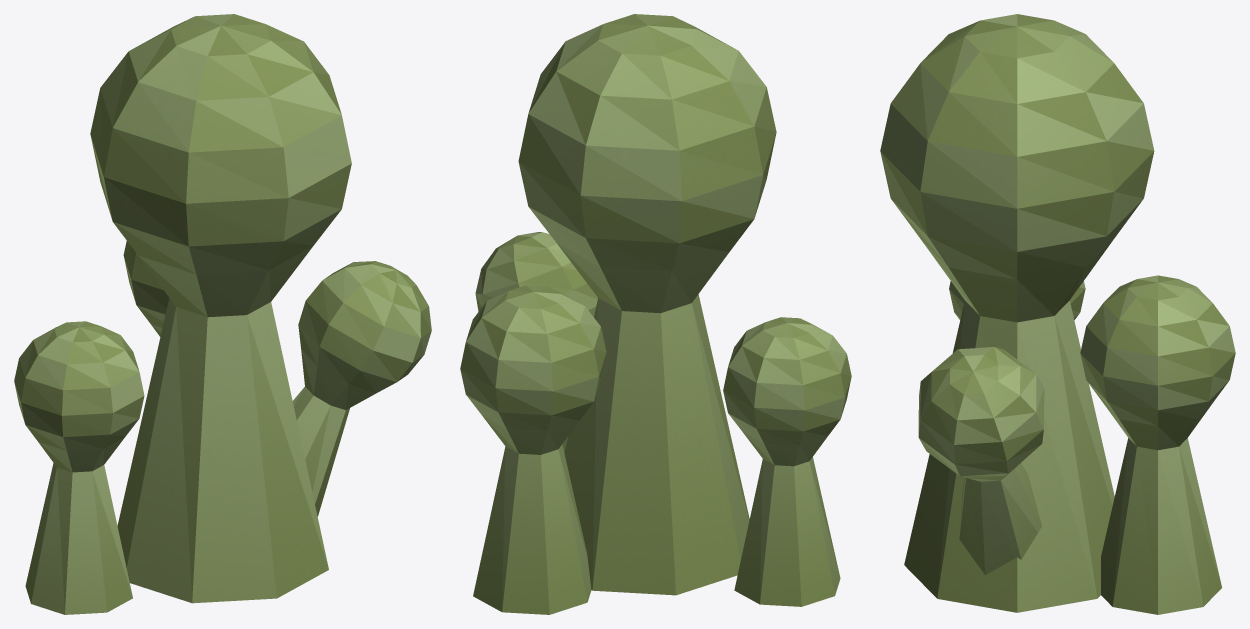
The model's file is Mushroom_Gr_3B.fbx.
3 renders of one model, left to right at view 1: azimuth 30°, elevation 25°; view 2: azimuth 150°, elevation 25°; view 3: azimuth 270°, elevation 25°, orthographic. The views are drawn at different scales.
Visible parts, largest first — view 1: polySurface696; view 2: polySurface696; view 3: polySurface696.
Part boxes in pixels (x1=…): polySurface696: x1=14, y1=14, x2=431, y2=614; polySurface696: x1=460, y1=14, x2=851, y2=614; polySurface696: x1=880, y1=14, x2=1235, y2=614.
Size of the model in its own units: 119 by 158 by 94.64.
1 material, 1 textured.
